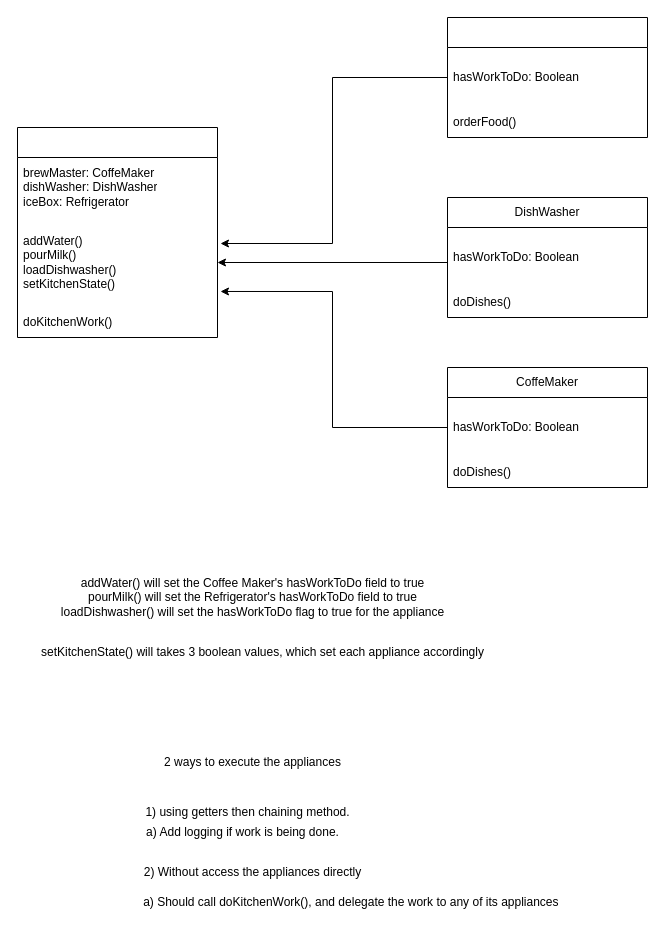
Image size: 665x935. Some labels were removed from this diagram. The box of each missing label's shape, as (x1, y1, x2, y2) in pixels:
Refrigerator: (446, 16, 648, 138)
SmartKitchen: (16, 126, 218, 338)
